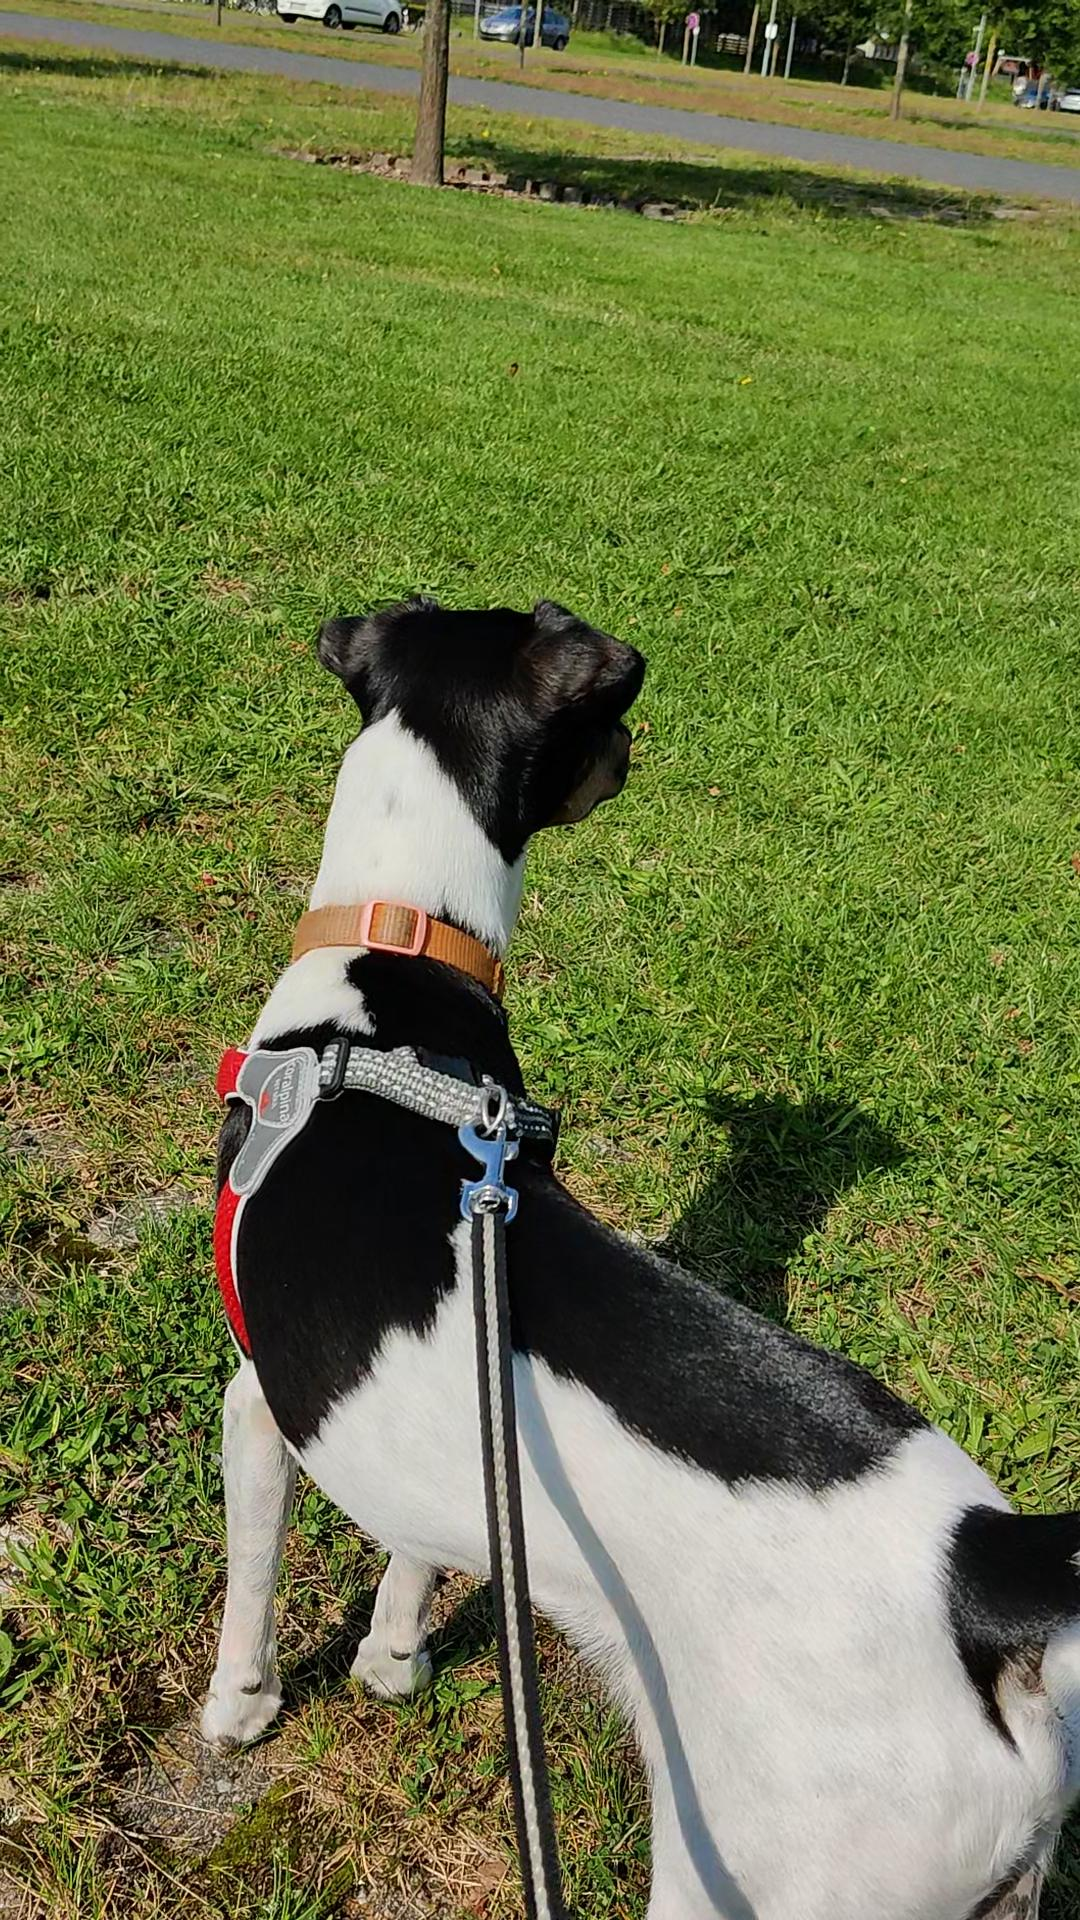Dog: (187, 592, 1079, 1919)
